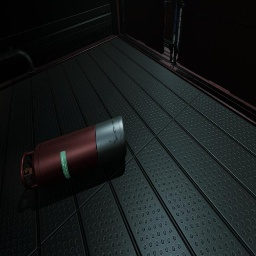NitrogenTank ,: (20, 116, 127, 190)
